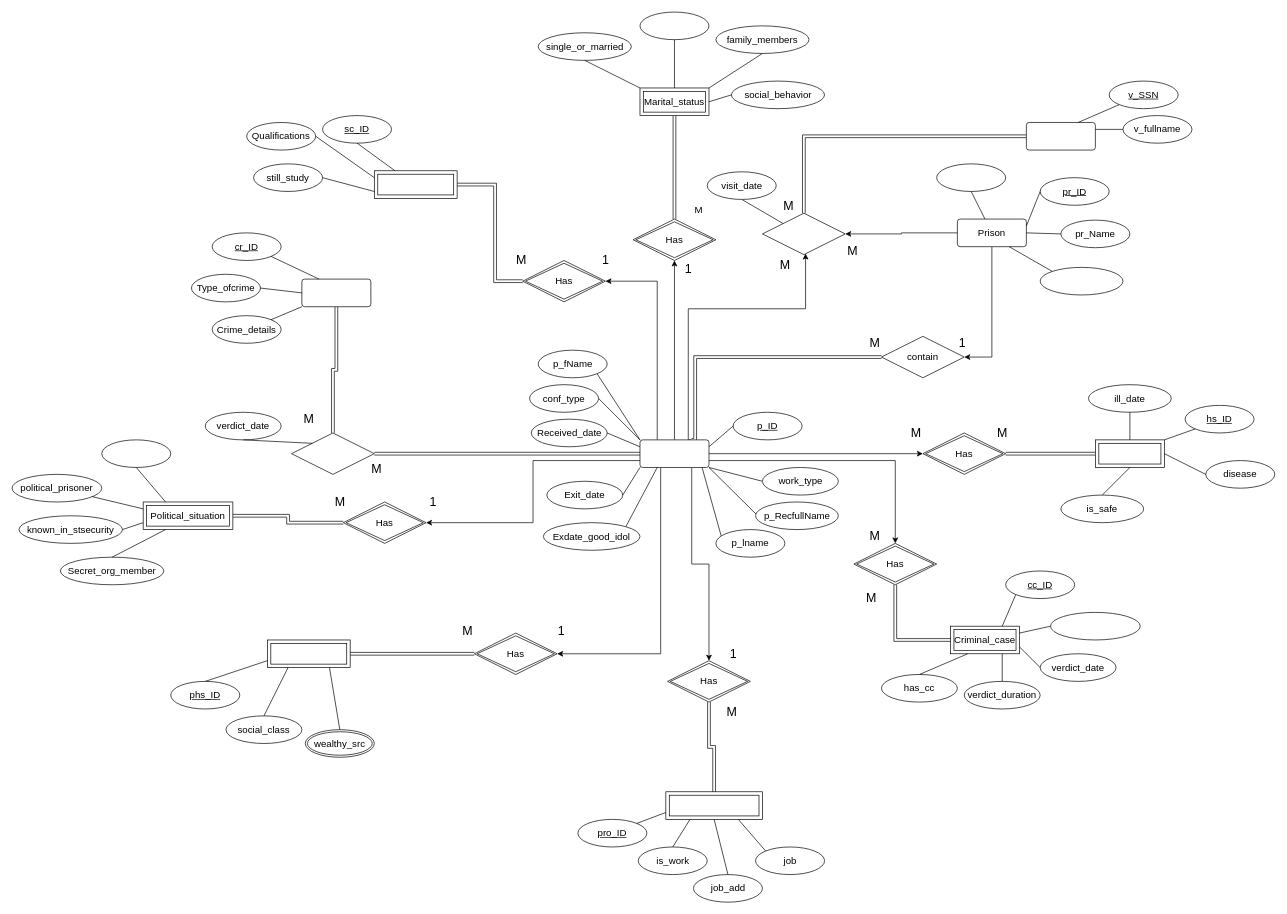
The diagram is 1287 pixels wide and 914 high, and some of its shapes have lost their labels. Here are the shapes that lost their labels. From the top down, the centre of each, then its label:
point 674,25: ms_ID
point 1060,136: Visitor
point 415,184: Scientific_status
point 971,177: pr_address
point 803,234: visit
point 336,292: Crime
point 1081,281: Prisoners_num
point 136,453: pols_ID
point 332,453: perpetrate
point 674,453: Prisoner
point 1129,453: Health_status
point 1095,626: previous_crimes
point 308,653: Physical_status
point 713,805: Professional_status
